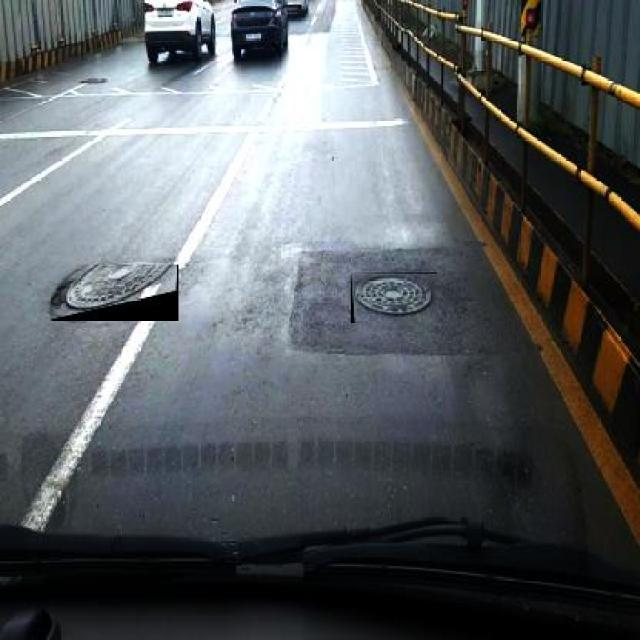Manhole: (50, 264, 178, 321), (352, 272, 438, 323), (76, 75, 110, 85)
